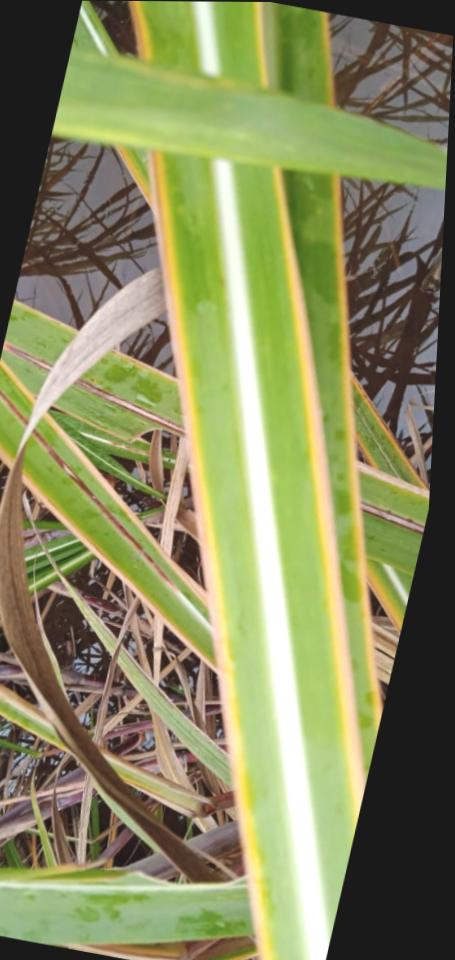RedRot: (30, 428, 178, 590), (72, 379, 184, 434), (360, 501, 424, 535), (3, 342, 52, 370), (0, 389, 27, 426)
Yellow: (150, 150, 271, 960), (270, 166, 364, 825), (331, 174, 382, 728), (350, 374, 429, 491), (365, 564, 400, 634), (318, 13, 333, 108), (127, 1, 149, 61), (252, 2, 266, 88), (354, 434, 378, 469)
